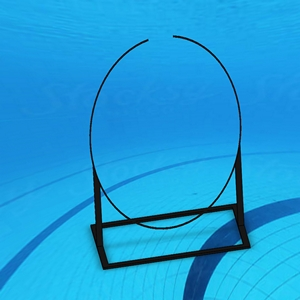circle: (86, 33, 252, 270)
